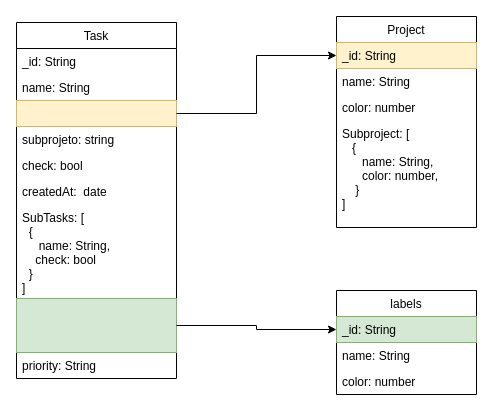
Some shapes in this 493 by 411 pixel diagram are drawn without their labels. Each missing label, with the centre of its shape:
"labels: [ (idLabel) ]" belongs at point 96,325.
"project: (_Idproject)" belongs at point 96,113.
